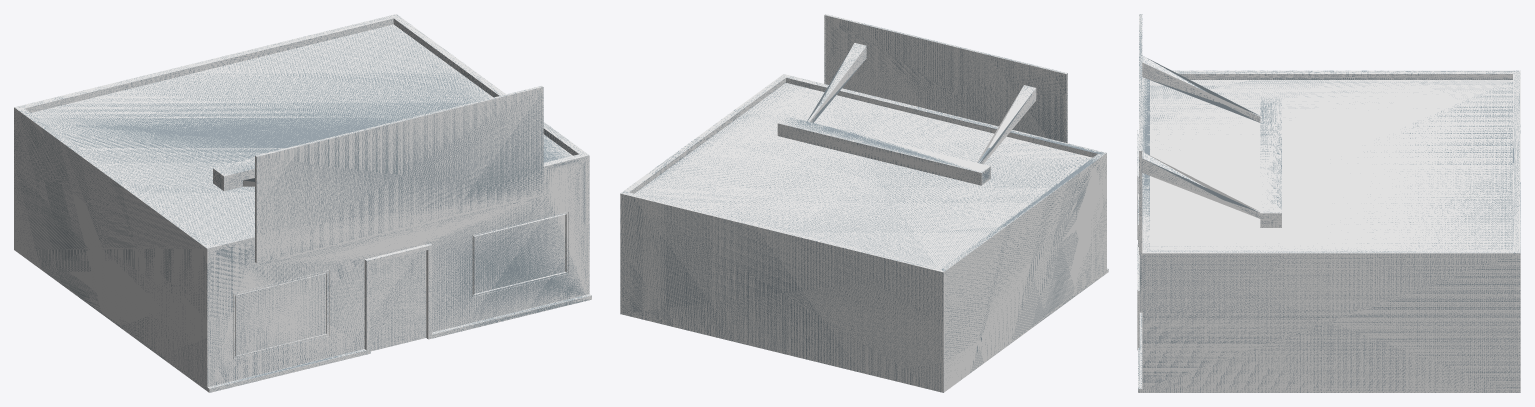
File: shop2.dae
3 views of the same model, side by side, from view 1: azimuth 30°, elevation 25°; view 2: azimuth 150°, elevation 25°; view 3: azimuth 270°, elevation 25° (orthographic). The views are drawn at different scales.
Parts seen in each view (by area): view 1: instance_0 (×4); view 2: instance_0 (×2); view 3: instance_0 (×2).
Part boxes in pixels (box(x1,y1,x2,y2)): instance_0 (×4): box(14, 14, 591, 392); instance_0 (×2): box(620, 14, 1108, 392); instance_0 (×2): box(1138, 14, 1520, 392).
Bounding box in the file's own units: 315 × 279 × 176.
